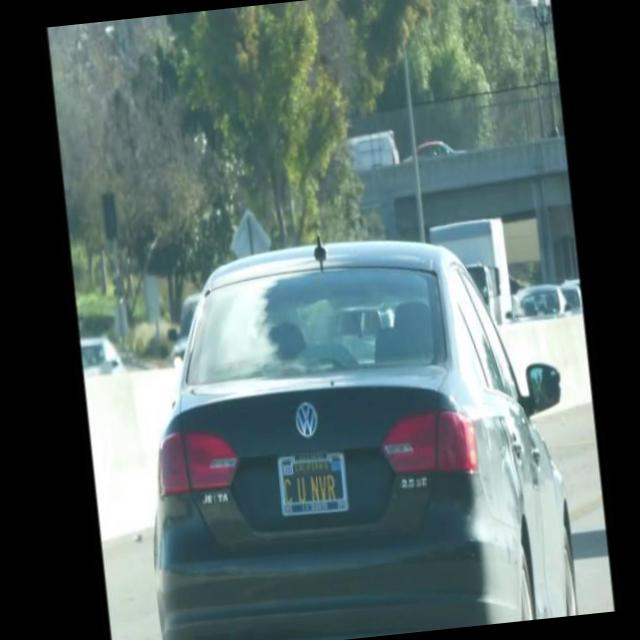LicensePlate: (271, 435, 358, 531)
